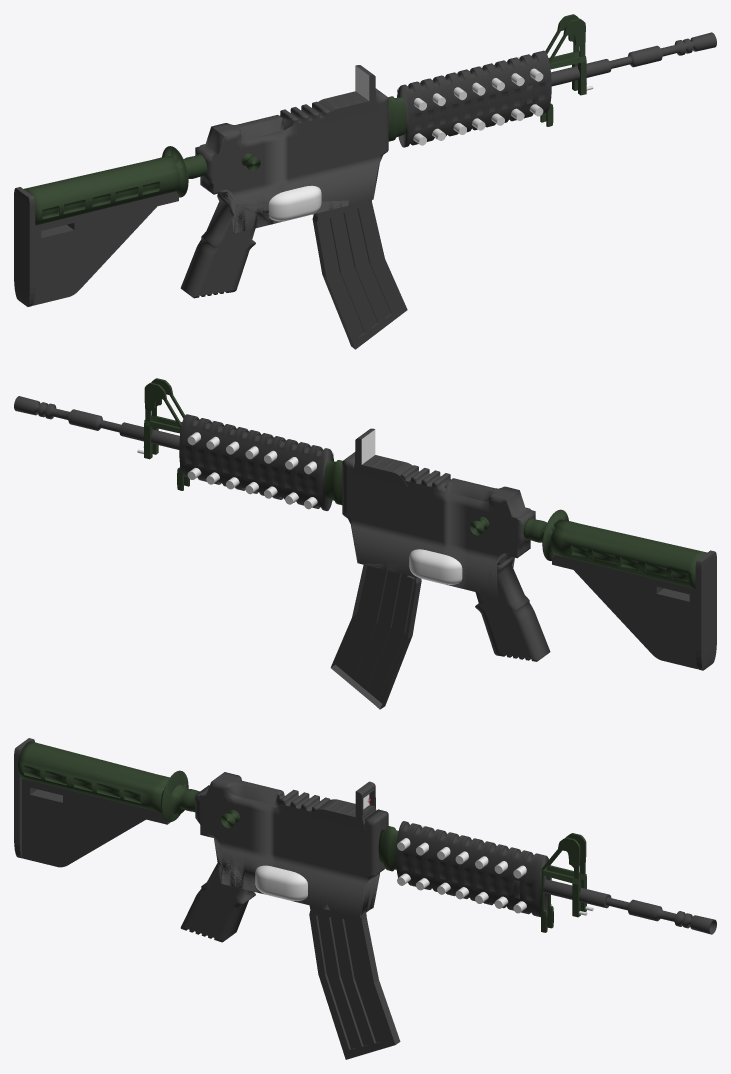
The model's file is m4 again.glb.
3 views of the same model, one above another, from view 1: azimuth 30°, elevation 25°; view 2: azimuth 150°, elevation 25°; view 3: azimuth 330°, elevation 25° (orthographic).
Parts seen in each view (by area): view 1: hand part, magazine, Cylinder.003, Cube.006, Cylinder.002, bullet hand, Cube.001, Cylinder, Cube.007, Cube.005, Cube.002, Cylinder.018 (+1 smaller); view 2: hand part, magazine, Cylinder.003, Cube.006, Cylinder.002, bullet hand, Cube.001, Cylinder, Cube.007, Cube.005, Cube.011, Cylinder.018 (+1 smaller); view 3: hand part, magazine, Cylinder.003, Cube.006, Cylinder.002, bullet hand, Cylinder, Cube.007, Cube.005, Cube.002, Cube.011, Cube.001 (+1 smaller).
Part boxes in pixels (left/top/right/bottom): hand part: left=195, top=88, right=388, bottom=233; magazine: left=312, top=200, right=407, bottom=349; Cylinder.003: left=397, top=50, right=551, bottom=147; Cube.006: left=33, top=191, right=179, bottom=305; Cylinder.002: left=24, top=146, right=207, bottom=225; bullet hand: left=180, top=193, right=255, bottom=298; Cube.001: left=14, top=187, right=35, bottom=306; Cylinder: left=551, top=32, right=716, bottom=86; Cube.007: left=318, top=65, right=378, bottom=122; Cube.005: left=268, top=185, right=321, bottom=221; Cube.002: left=546, top=18, right=586, bottom=126; Cylinder.018: left=388, top=96, right=406, bottom=141; hand part: left=342, top=452, right=535, bottom=596; magazine: left=330, top=565, right=421, bottom=709; Cylinder.003: left=179, top=414, right=333, bottom=510; Cube.006: left=551, top=555, right=697, bottom=669; Cylinder.002: left=523, top=509, right=707, bottom=588; bullet hand: left=475, top=556, right=550, bottom=661; Cube.001: left=695, top=550, right=716, bottom=670; Cylinder: left=14, top=396, right=179, bottom=449; Cube.007: left=352, top=428, right=412, bottom=486; Cube.005: left=409, top=549, right=462, bottom=584; Cube.011: left=144, top=382, right=183, bottom=490; Cylinder.018: left=324, top=460, right=342, bottom=504; hand part: left=195, top=772, right=388, bottom=917; magazine: left=309, top=905, right=400, bottom=1059; Cylinder.003: left=396, top=821, right=551, bottom=917; Cube.006: left=22, top=779, right=170, bottom=867; Cylinder.002: left=17, top=741, right=199, bottom=821; bullet hand: left=180, top=863, right=255, bottom=942; Cylinder: left=541, top=879, right=716, bottom=934; Cube.007: left=310, top=781, right=376, bottom=830; Cube.005: left=255, top=865, right=307, bottom=900; Cube.002: left=541, top=837, right=580, bottom=932; Cube.011: left=547, top=833, right=586, bottom=928; Cube.001: left=14, top=738, right=34, bottom=858.
Bounding box in the file's own units: 4.82 × 1.83 × 0.3239.
